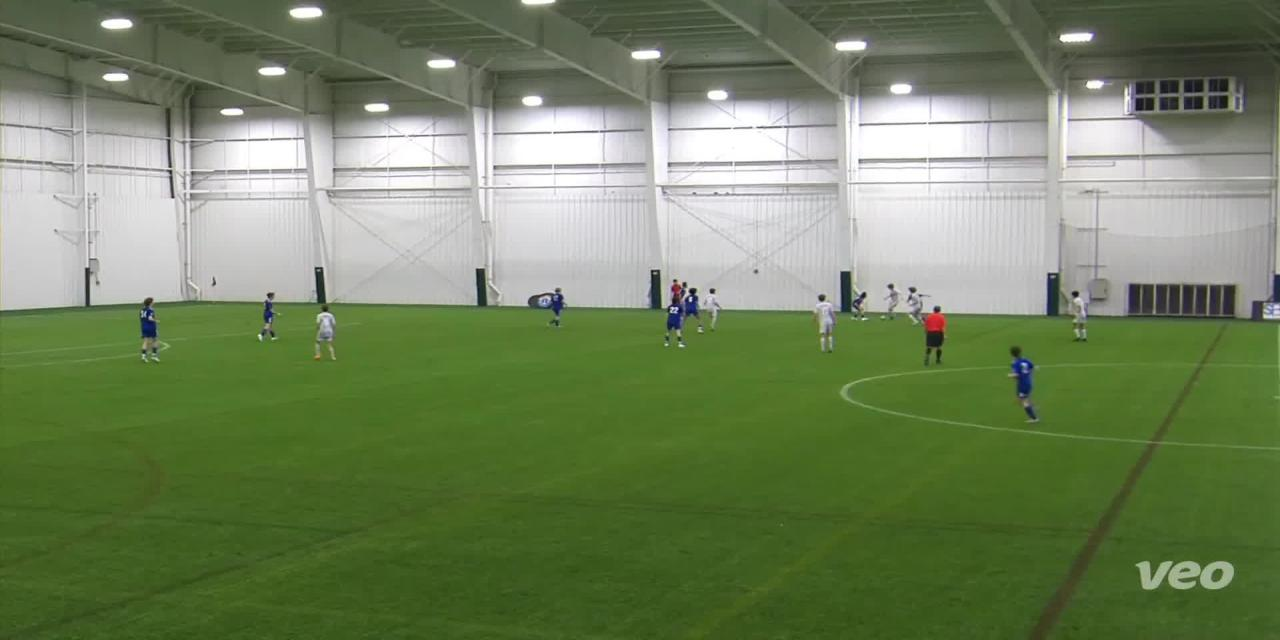sports ball: (875, 309, 889, 323)
